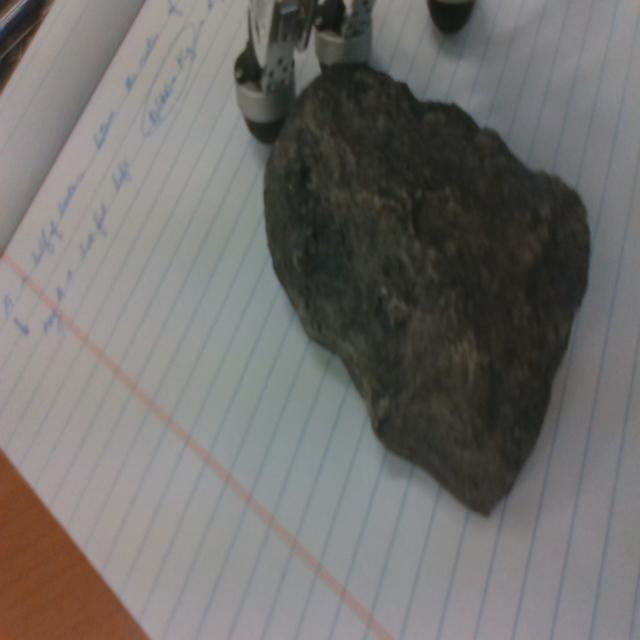stone: (263, 63, 590, 519)
